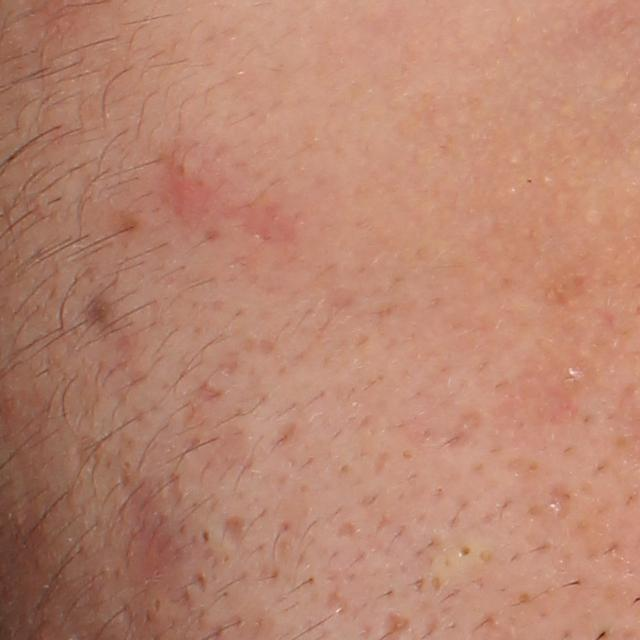atrophic_scar: (113, 478, 187, 591), (73, 429, 109, 474), (447, 407, 486, 447), (218, 512, 252, 549), (545, 483, 576, 521), (190, 375, 224, 407)
